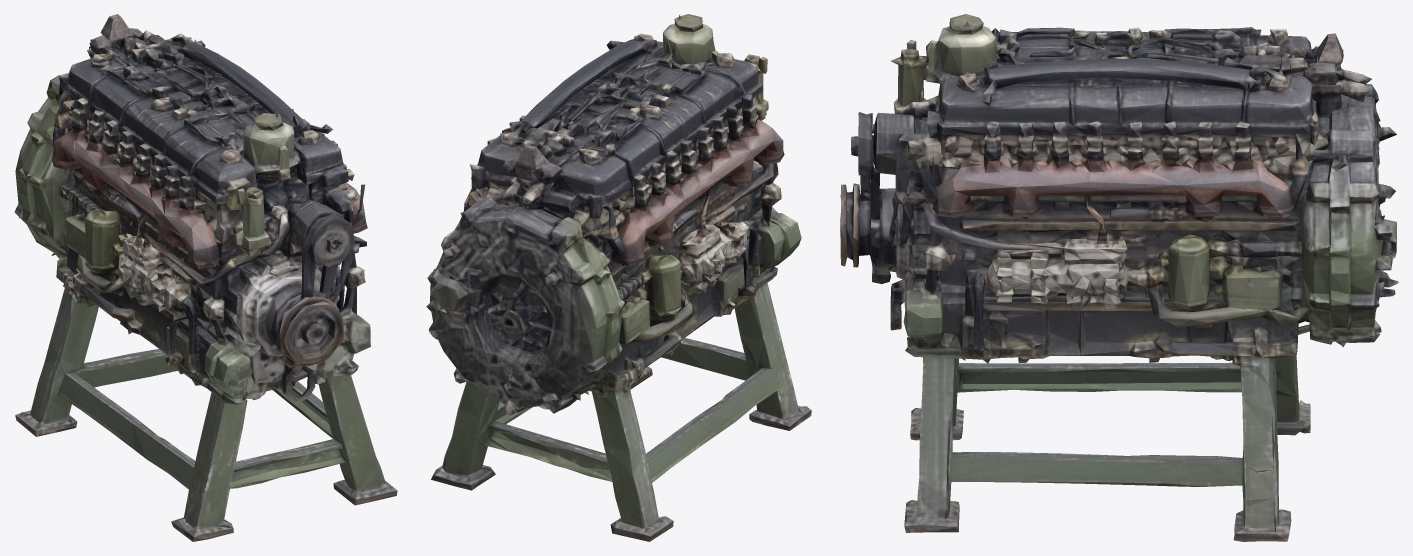
File: engine_inline.obj
The picture shows the model from 3 angles, left to right: view 1: azimuth 30°, elevation 25°; view 2: azimuth 150°, elevation 25°; view 3: azimuth 270°, elevation 25°; orthographic projection. The views are drawn at different scales.
Parts seen in each view (by area): view 1: engine_inline; view 2: engine_inline; view 3: engine_inline.
Part boxes in pixels (x1,y1,x2,y2): engine_inline: (14,14,397,541); engine_inline: (426,14,811,541); engine_inline: (840,14,1398,541).
Size of the model in its own units: 1.06 by 1.72 by 1.9.
1 material, 1 textured.
